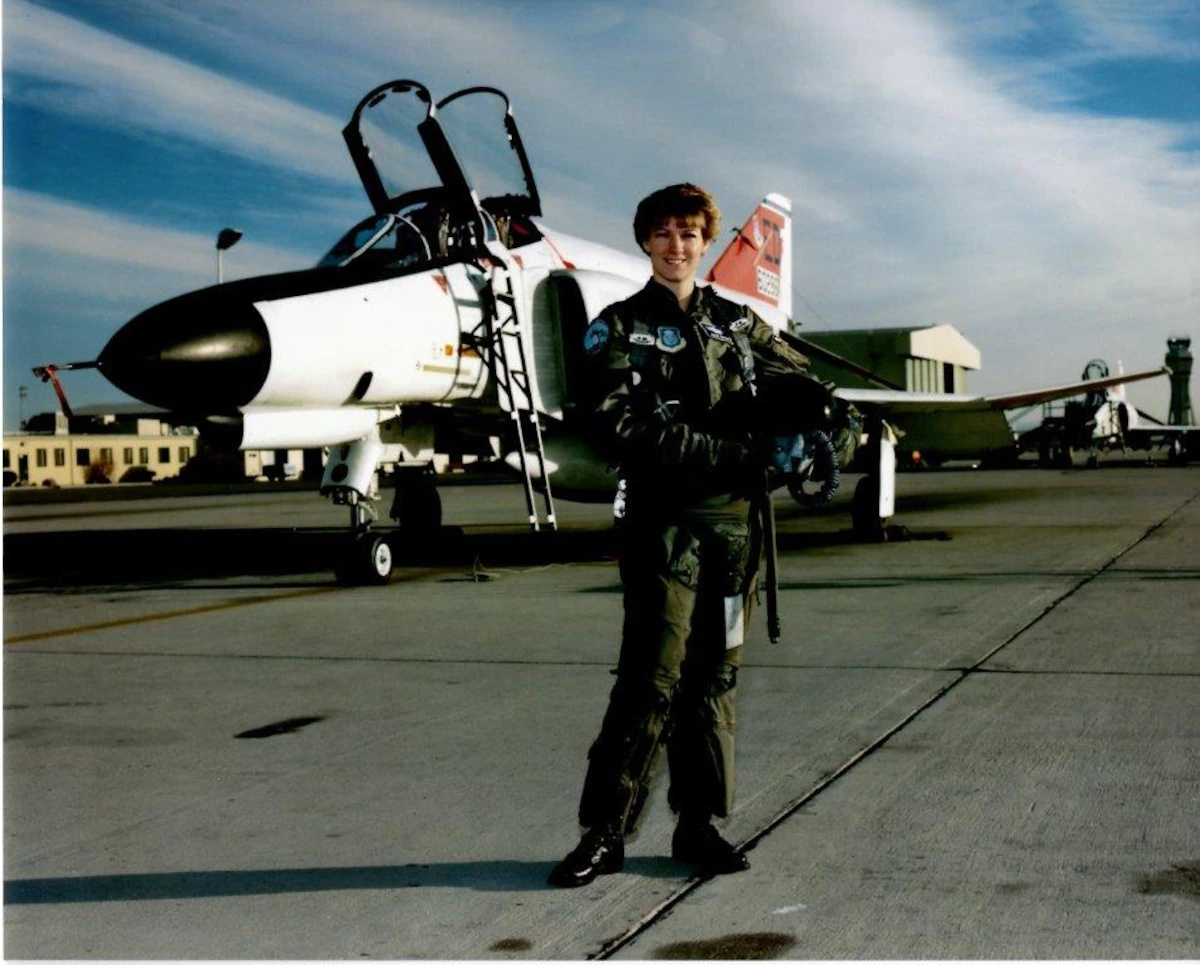F4: (30, 79, 1174, 585), (1013, 358, 1200, 470)
